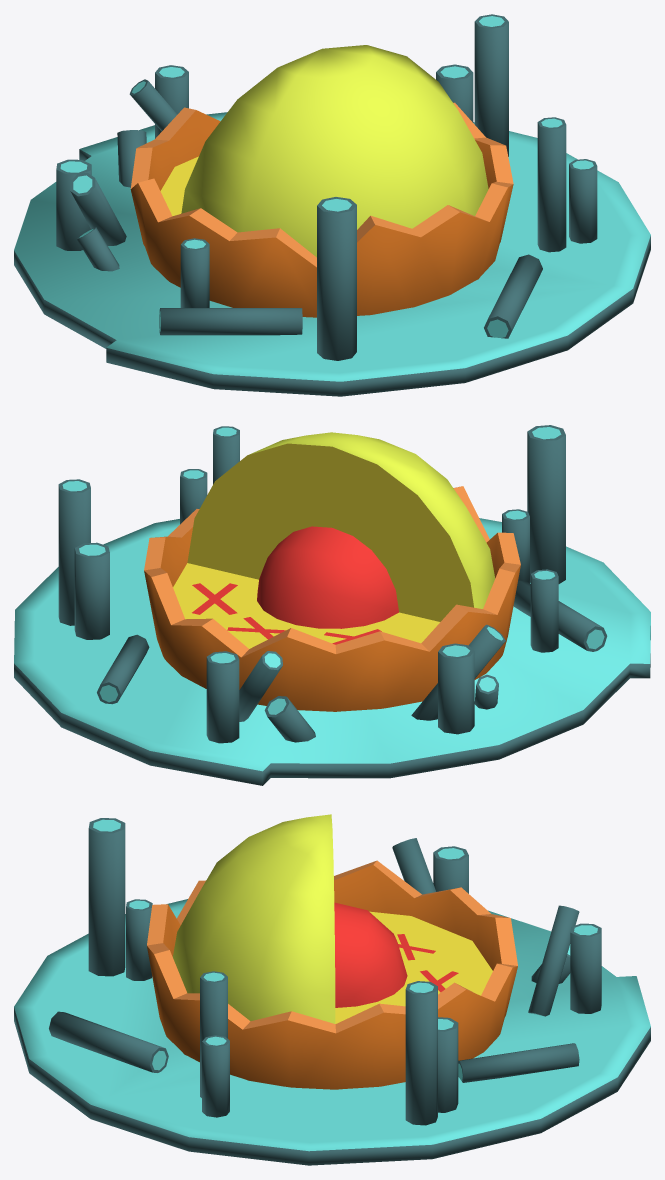
File: home_base.fbx
3 views of the same model, one above another, from view 1: azimuth 30°, elevation 25°; view 2: azimuth 150°, elevation 25°; view 3: azimuth 270°, elevation 25° (orthographic). The views are drawn at different scales.
Visible parts, largest first — view 1: home_base; view 2: home_base; view 3: home_base.
Boxes of the visible parts, bbox=[...] form: home_base: bbox=[14, 14, 650, 396]; home_base: bbox=[14, 425, 650, 785]; home_base: bbox=[14, 814, 650, 1165].
Bounding box in the file's own units: 1455 × 572 × 1494.
